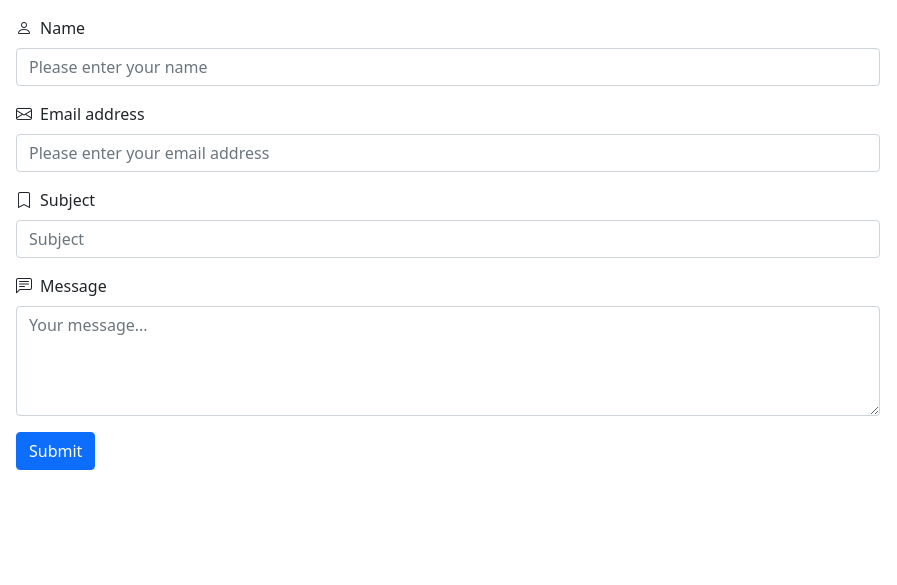
Invalid email input format and submit test
Simulate input.
Step 1. Type "User 1" into the field labelled "Name" → (448, 67), box x1=16 y1=48 x2=880 y2=86
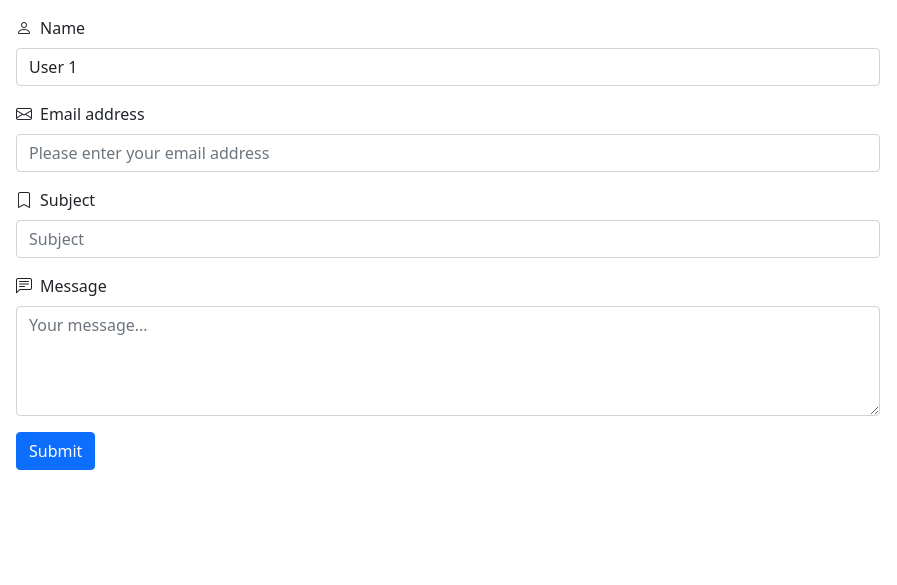
Step 2. Type "User1@gmail.com" into the field labelled "Email address" → (448, 153), box x1=16 y1=134 x2=880 y2=172
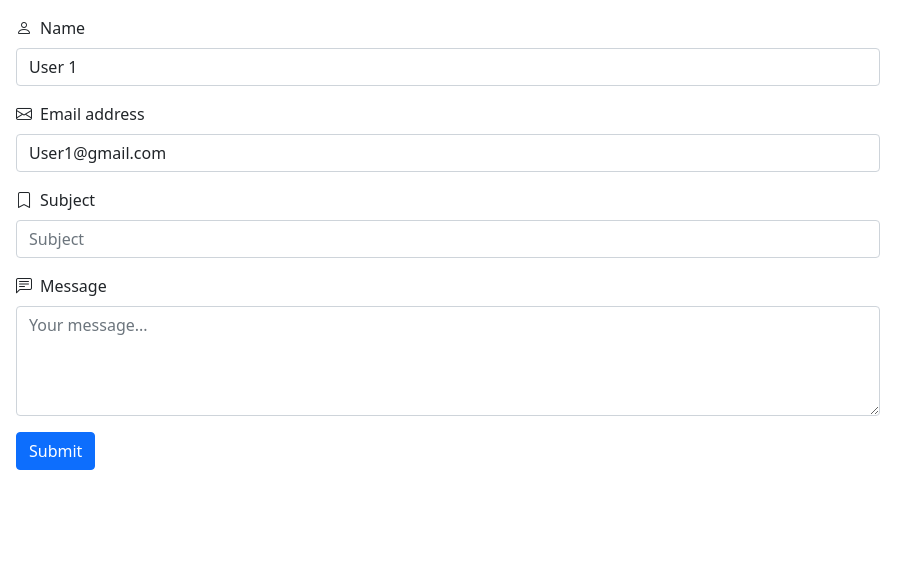
Step 3. Type "TEST SUBJECT" into the field labelled "Subject" → (448, 239), box x1=16 y1=220 x2=880 y2=258
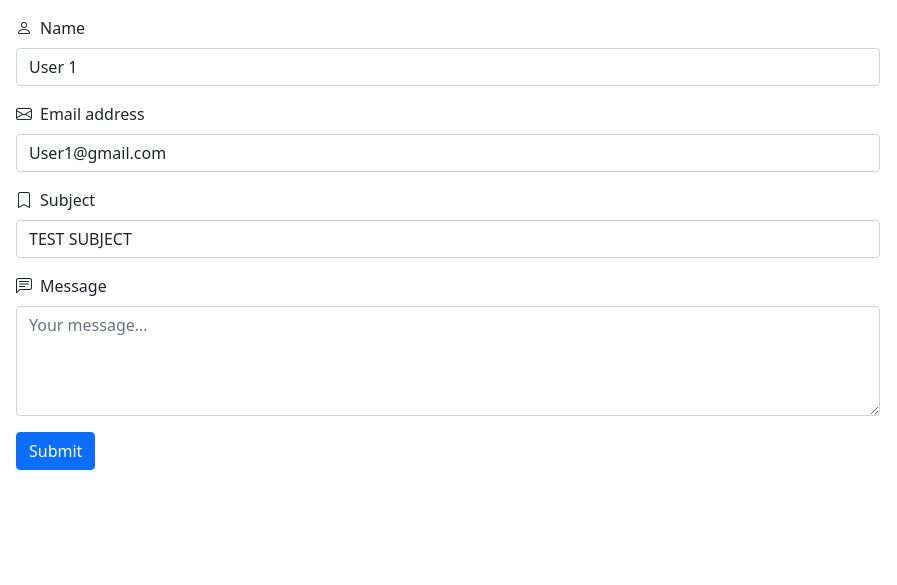
Step 4. Type "This is a test message." into the text box labelled "Message" → (448, 361), box x1=16 y1=306 x2=880 y2=416
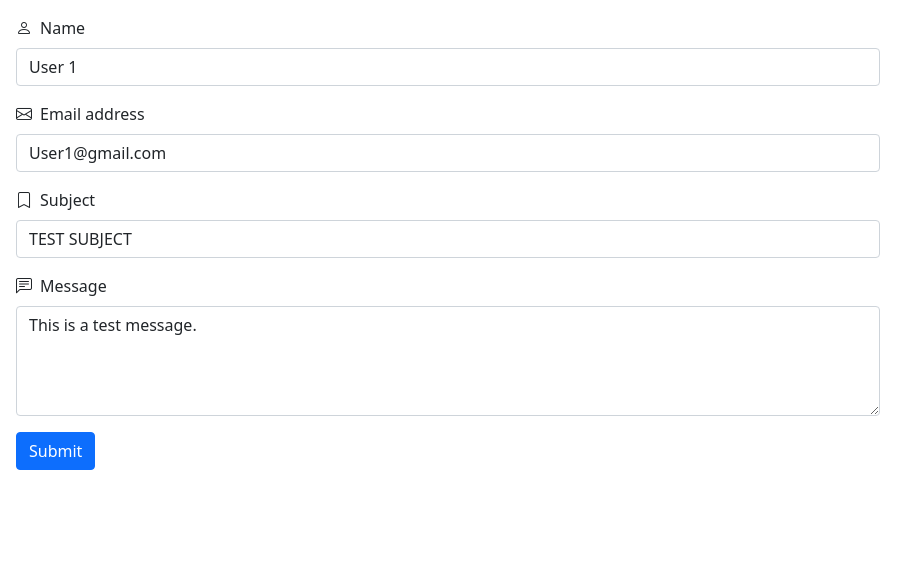
Simulate click.
Step 5. Click the button "Submit" → (56, 451), box x1=16 y1=432 x2=95 y2=470
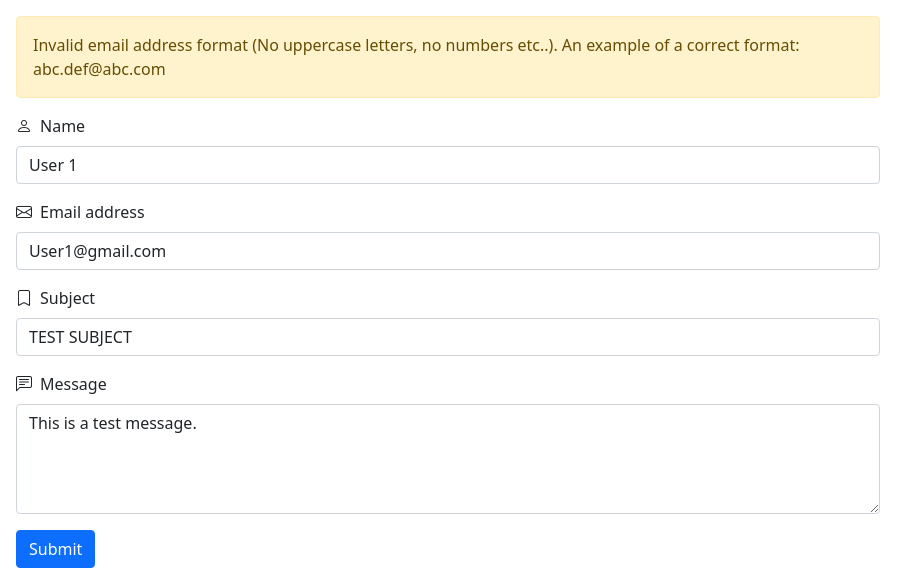
Expected: the text "Invalid email address format (No uppercase letters, no numbers etc..). An example of a correct format: abc.def@abc.com" is shown, x1=33 y1=34 x2=800 y2=80
